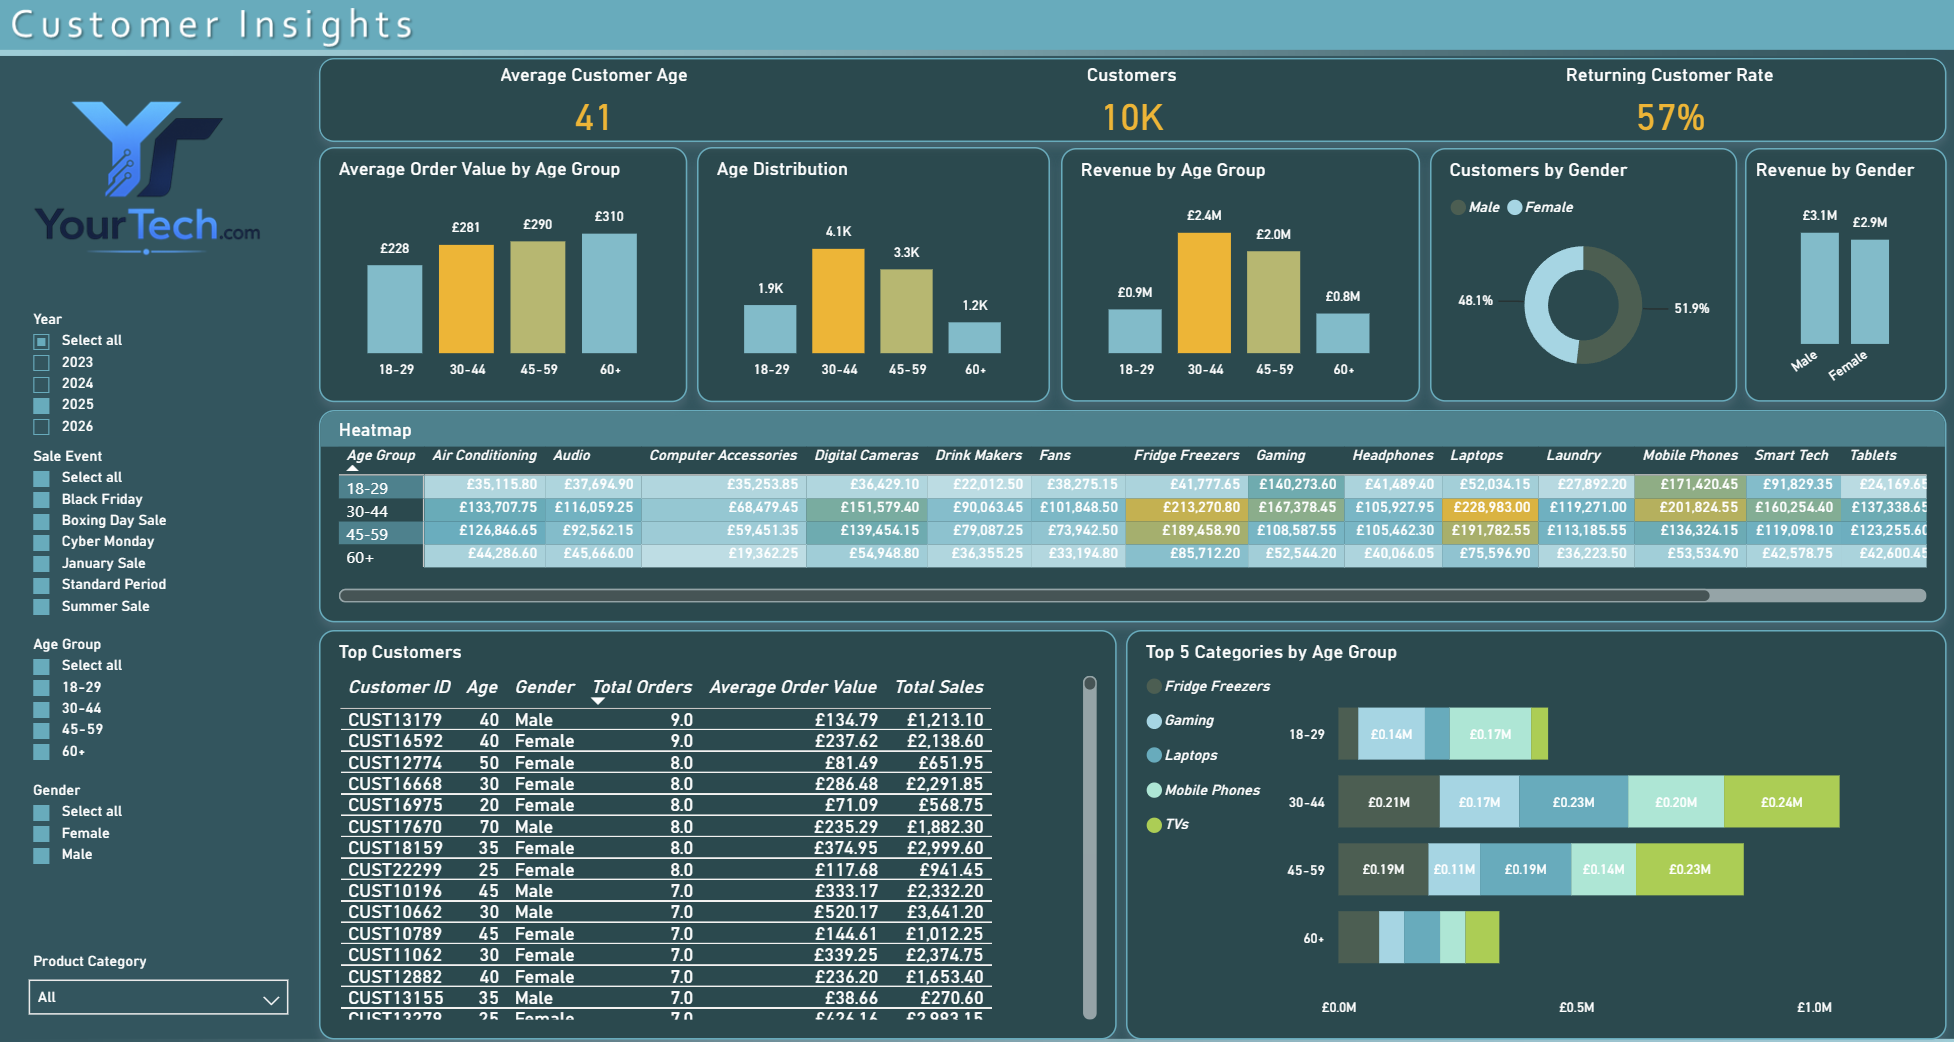

The page's visual inventory and layout, read from the dashboard file:
{"tool":"powerbi","page":{"name":"Customer Insights","canvas":[1280,720],"ordinal":3},"visuals":[{"type":"donutChart","fields":{"Category":["dCustomers.Gender"],"Y":["_Measures.Customers"]},"box":[952.8,97.5,195,166.2],"z":0},{"type":"clusteredColumnChart","title":"Revenue by Gender","fields":{"Y":["_Measures.Total Sales"],"Category":["dCustomers.Gender"]},"box":[1153,97.5,127,166.2],"z":1000},{"type":"pivotTable","title":"Heatmap","fields":{"Values":["_Measures.Total Sales"],"Rows":["dCustomers.Age Group"],"Columns":["dProducts.Product Category"]},"box":[260.3,269.7,1013.9,138.5],"z":2000},{"type":"clusteredColumnChart","title":"Age Distribution","fields":{"Category":["dCustomers.Age Group"],"Y":["_Measures.Customers"]},"box":[522.9,96.9,214,166.9],"z":3000},{"type":"clusteredColumnChart","title":"Revenue by Age Group","fields":{"Category":["dCustomers.Age Group"],"Y":["_Measures.Total Sales"]},"box":[742.1,97.5,206.1,166.2],"z":4000},{"type":"clusteredColumnChart","fields":{"Category":["dCustomers.Age Group"],"Y":["_Measures.Average Order Value"]},"box":[260.4,96.9,257.8,166.9],"z":5000},{"type":"barChart","title":"Top 5 Categories by Age Group","fields":{"Series":["dProducts.Product Category"],"Category":["dCustomers.Age Group"],"Y":["_Measures.Total Sales"]},"box":[736.9,412.9,537.9,268.3],"z":6000},{"type":"tableEx","title":"Top Customers","fields":{"Values":["dCustomers.Customer ID","dCustomers.Age","dCustomers.Gender","_Measures.Total Orders","_Measures.Average Order Value","_Measures.Total Sales"]},"box":[260.3,413.2,470.2,268.3],"z":7000},{"type":"cardVisual","fields":{"Data":["_Measures.Average Customer Age","_Measures.Customers"]},"box":[785.3,38.6,488.8,55],"z":8000},{"type":"slicer","fields":{"Values":["dDate.Year"]},"box":[13.7,203.6,179.6,82.9],"z":9000},{"type":"slicer","fields":{"Values":["dSale Event.Sale_Event_Name"]},"box":[13.7,292.8,179.6,116.8],"z":10000},{"type":"slicer","fields":{"Values":["dProducts.Product Category"]},"box":[13.7,623.8,180.3,42.5],"z":11000},{"type":"slicer","fields":{"Values":["dCustomers.Age Group"]},"box":[13.7,415.9,180.3,89.4],"z":12000},{"type":"slicer","fields":{"Values":["dCustomers.Gender"]},"box":[13.7,511.7,180,73.9],"z":13000},{"type":"actionButton","box":[0,685.7,100.2,33.8],"z":14000}]}

Visuals, with their boxes on the page's 1280x720 design canvas (x1, y1, x2, y2). These are canvas units, not pixel positions in the 1954x1042 screenshot, which may show the page scaled, cropped or inside an application window:
donutChart - dCustomers.Gender x _Measures.Customers: 953/98/1148/264
"Revenue by Gender" clusteredColumnChart: 1153/98/1280/264
"Heatmap" pivotTable: 260/270/1274/408
"Age Distribution" clusteredColumnChart: 523/97/737/264
"Revenue by Age Group" clusteredColumnChart: 742/98/948/264
clusteredColumnChart - dCustomers.Age Group x _Measures.Average Order Value: 260/97/518/264
"Top 5 Categories by Age Group" barChart: 737/413/1275/681
"Top Customers" tableEx: 260/413/730/682
cardVisual - _Measures.Average Customer Age x _Measures.Customers: 785/39/1274/94
slicer - dDate.Year: 14/204/193/286
slicer - dSale Event.Sale_Event_Name: 14/293/193/410
slicer - dProducts.Product Category: 14/624/194/666
slicer - dCustomers.Age Group: 14/416/194/505
slicer - dCustomers.Gender: 14/512/194/586
actionButton: 0/686/100/720
